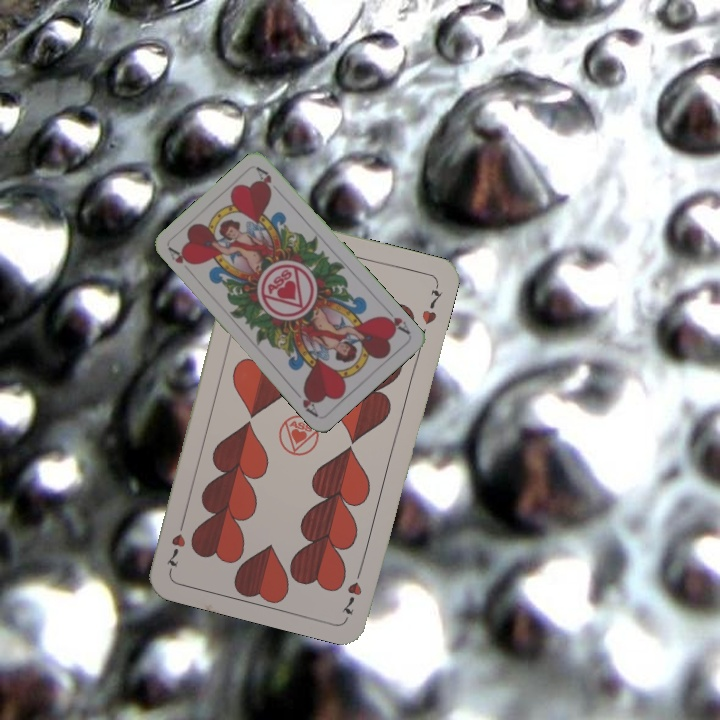H7: (338, 562, 366, 618)
HA: (378, 304, 413, 337), (165, 243, 195, 267)
